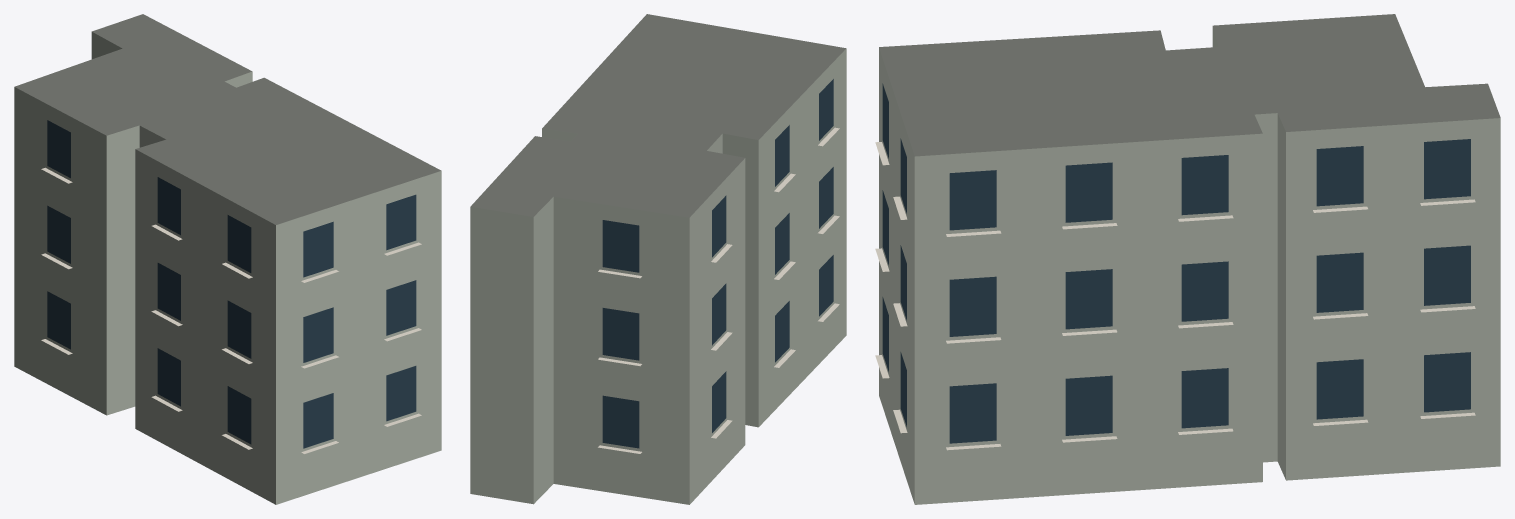
3 renders of one model, left to right at view 1: azimuth 30°, elevation 25°; view 2: azimuth 150°, elevation 25°; view 3: azimuth 270°, elevation 25°, orthographic. The views are drawn at different scales.
Parts seen in each view (by area): view 1: Footprint 0, Inferred window bays, Window sills; view 2: Footprint 0, Inferred window bays, Window sills; view 3: Footprint 0, Inferred window bays, Window sills.
Boxes of the visible parts, left/top/right/bottom form: Footprint 0: left=14, top=14, right=441, bottom=504; Inferred window bays: left=47, top=120, right=416, bottom=448; Window sills: left=41, top=167, right=421, bottom=453; Footprint 0: left=470, top=14, right=846, bottom=504; Inferred window bays: left=602, top=79, right=833, bottom=448; Window sills: left=598, top=127, right=839, bottom=453; Footprint 0: left=879, top=14, right=1500, bottom=504; Inferred window bays: left=882, top=83, right=1470, bottom=443; Window sills: left=875, top=142, right=1475, bottom=450.
Bounding box in the file's own units: 8.91 × 10.04 × 16.33.
